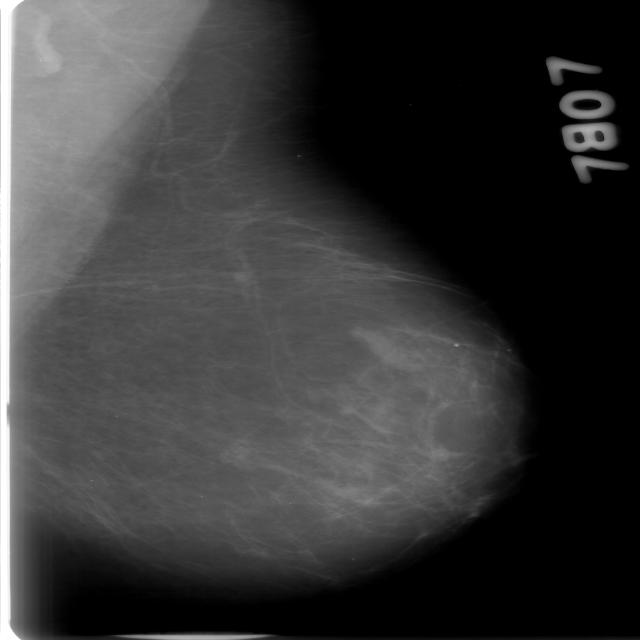normal: (0, 0, 510, 605)
